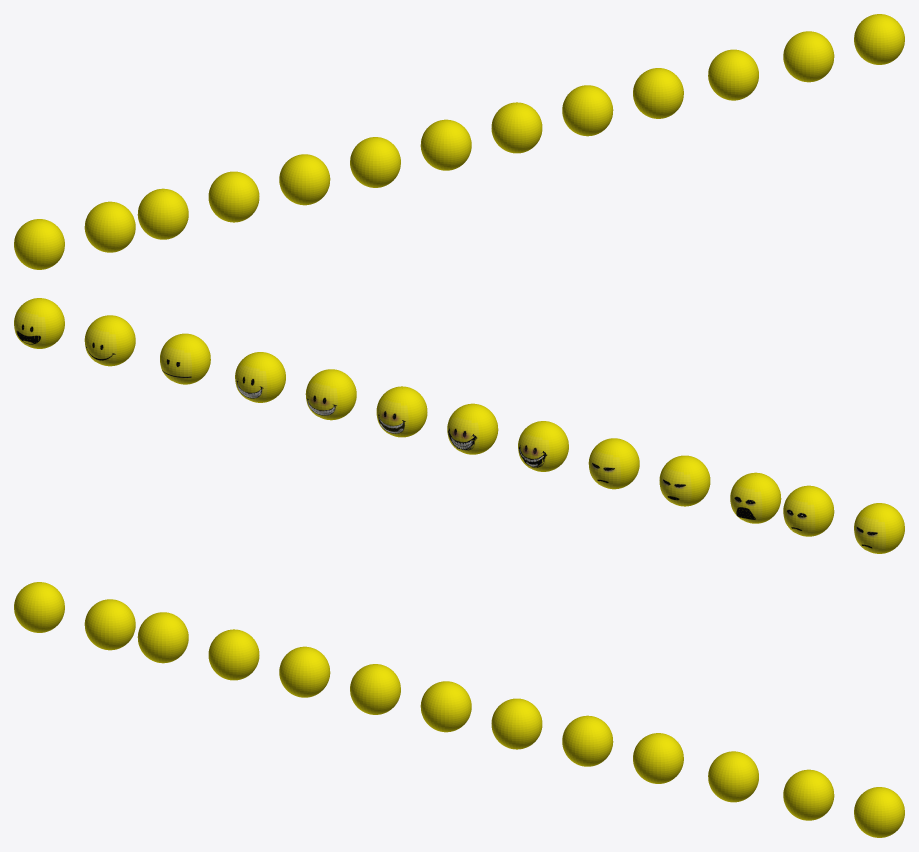
Rendered from all-verity-faces-sikayd.gltf.
The picture shows the model from 3 angles, top to bottom: view 1: azimuth 30°, elevation 25°; view 2: azimuth 150°, elevation 25°; view 3: azimuth 330°, elevation 25°; orthographic projection.
Parts seen in each view (by area): view 1: _gltfNode_20, _gltfNode_40, _gltfNode_5, _gltfNode_25, _gltfNode_35, _gltfNode_60, _gltfNode_15, _gltfNode_45, _gltfNode_50, _gltfNode_55, _gltfNode_0, _gltfNode_10 (+1 smaller); view 2: _gltfNode_35, _gltfNode_10, _gltfNode_5, _gltfNode_20, _gltfNode_0, _gltfNode_40, _gltfNode_30, _gltfNode_25, _gltfNode_55, _gltfNode_15, _gltfNode_45, _gltfNode_50 (+14 smaller); view 3: _gltfNode_20, _gltfNode_40, _gltfNode_5, _gltfNode_25, _gltfNode_35, _gltfNode_60, _gltfNode_15, _gltfNode_45, _gltfNode_50, _gltfNode_55, _gltfNode_0, _gltfNode_10 (+1 smaller).
Boxes of the visible parts, x1,y1,x2,y2 form: _gltfNode_20: [208, 171, 259, 222]; _gltfNode_40: [491, 102, 542, 153]; _gltfNode_5: [84, 201, 135, 252]; _gltfNode_25: [279, 154, 330, 205]; _gltfNode_35: [420, 119, 471, 170]; _gltfNode_60: [783, 31, 834, 82]; _gltfNode_15: [137, 188, 188, 239]; _gltfNode_45: [562, 85, 613, 136]; _gltfNode_50: [633, 68, 683, 118]; _gltfNode_55: [708, 49, 758, 100]; _gltfNode_0: [14, 219, 64, 269]; _gltfNode_10: [854, 14, 904, 64]; _gltfNode_35: [447, 403, 498, 454]; _gltfNode_10: [14, 298, 64, 348]; _gltfNode_5: [783, 485, 834, 536]; _gltfNode_20: [659, 455, 710, 506]; _gltfNode_0: [854, 503, 904, 553]; _gltfNode_40: [376, 386, 427, 437]; _gltfNode_30: [518, 421, 568, 471]; _gltfNode_25: [588, 438, 639, 489]; _gltfNode_55: [160, 333, 210, 384]; _gltfNode_15: [730, 472, 781, 523]; _gltfNode_45: [305, 369, 356, 420]; _gltfNode_50: [235, 352, 285, 402]; _gltfNode_20: [208, 629, 259, 680]; _gltfNode_40: [491, 698, 542, 749]; _gltfNode_5: [84, 599, 135, 650]; _gltfNode_25: [279, 646, 330, 697]; _gltfNode_35: [420, 681, 471, 732]; _gltfNode_60: [783, 769, 834, 820]; _gltfNode_15: [137, 612, 188, 663]; _gltfNode_45: [562, 715, 613, 766]; _gltfNode_50: [633, 733, 683, 783]; _gltfNode_55: [708, 751, 758, 802]; _gltfNode_0: [14, 582, 64, 632]; _gltfNode_10: [854, 787, 904, 837].
Bounding box in the file's own units: 50 × 2.5 × 2.52.
14 materials, 14 textured.
